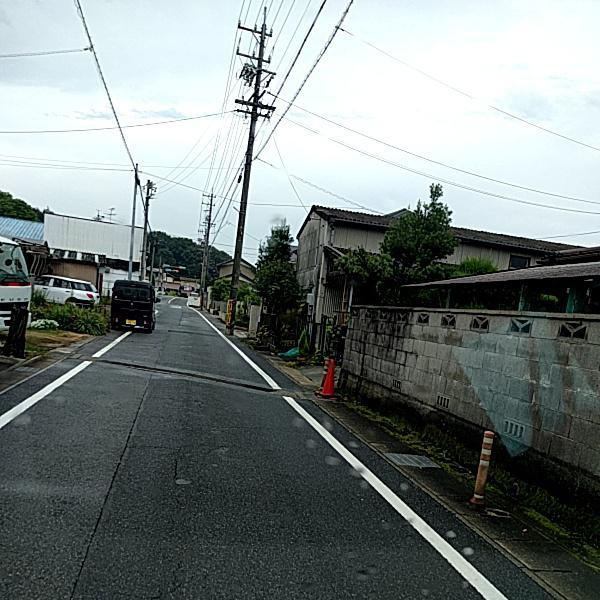D00: (170, 452, 181, 485)
